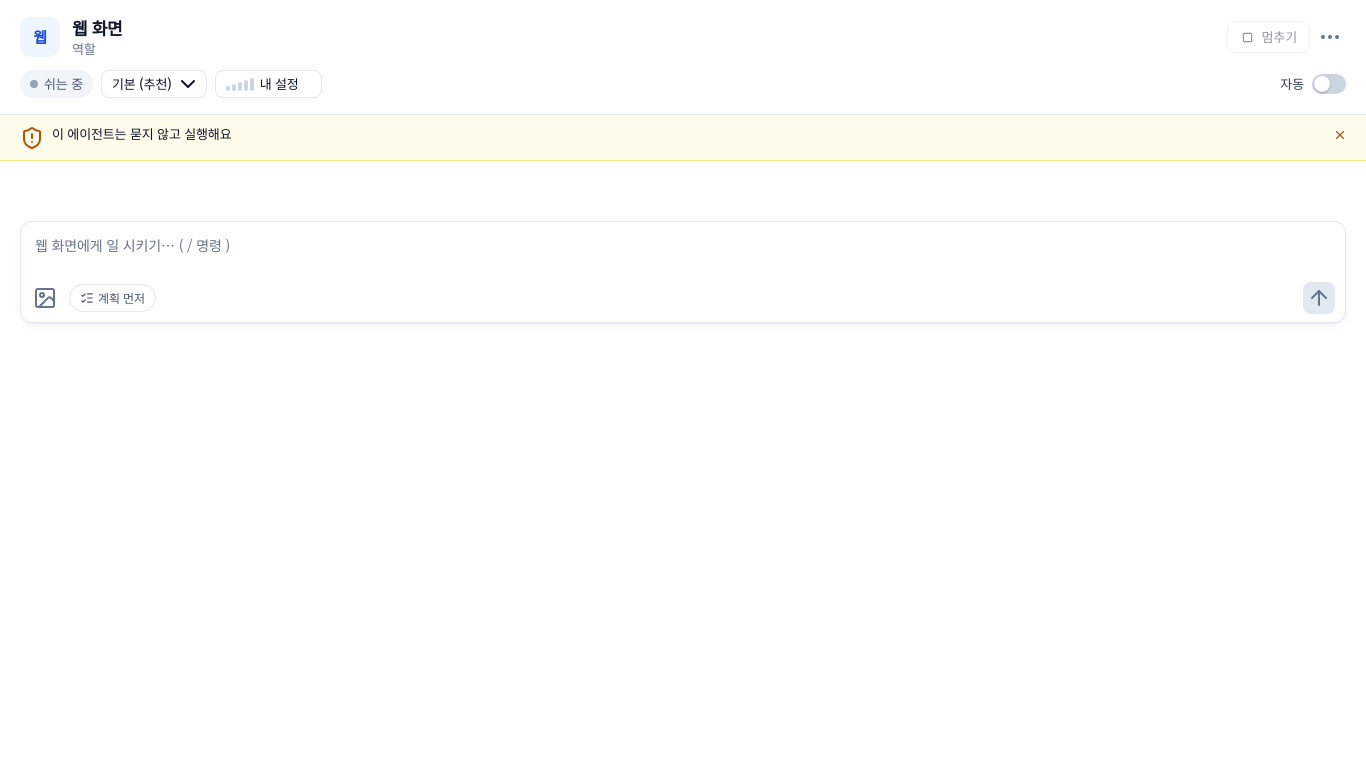
Scenario: AlwaysAllowDialog › 비었으면 안내 · 묻지 않음이 켜져 있으면 한 줄 더
The image size is (1366, 768).
Click the button named "메뉴".
click(1330, 37)  # box x1=1314 y1=21 x2=1346 y2=53
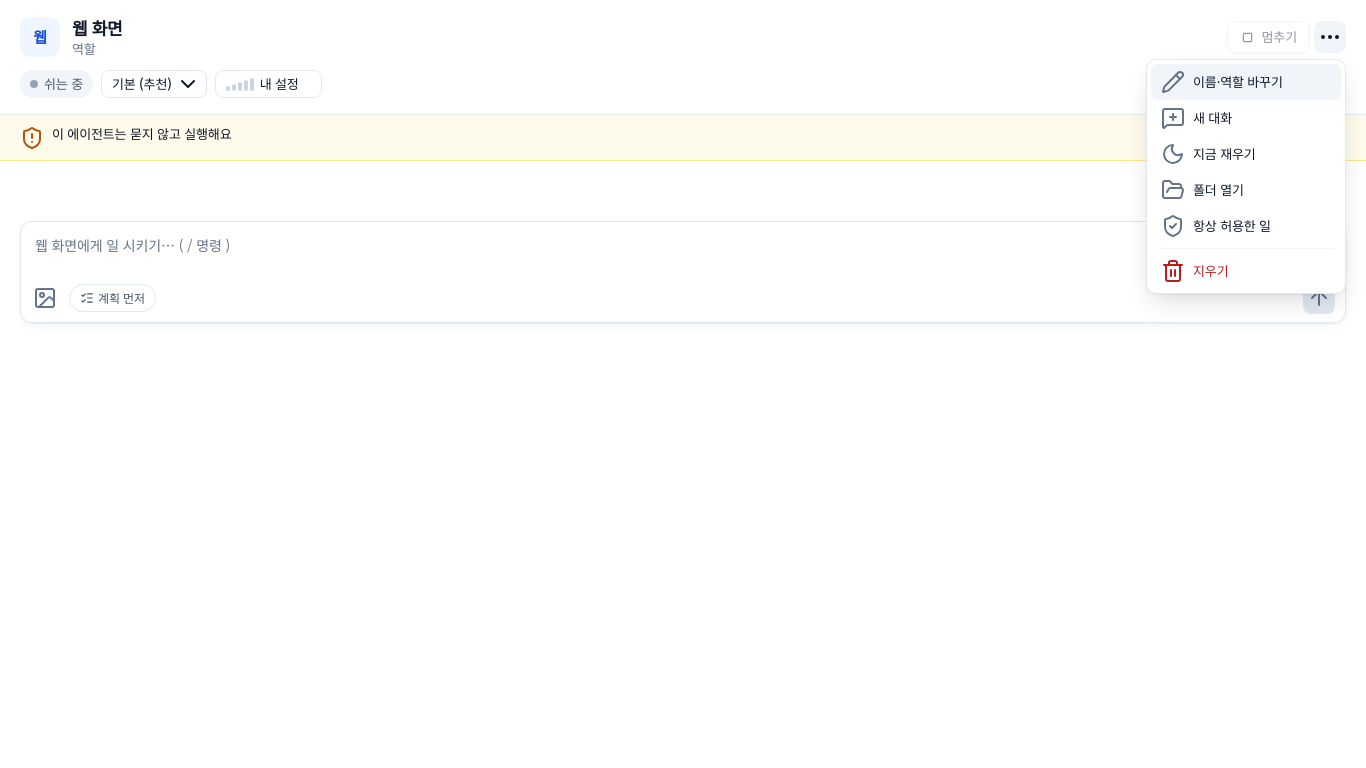
Click the menu item "항상 허용한 일".
click(1246, 226)  # box x1=1151 y1=208 x2=1341 y2=244
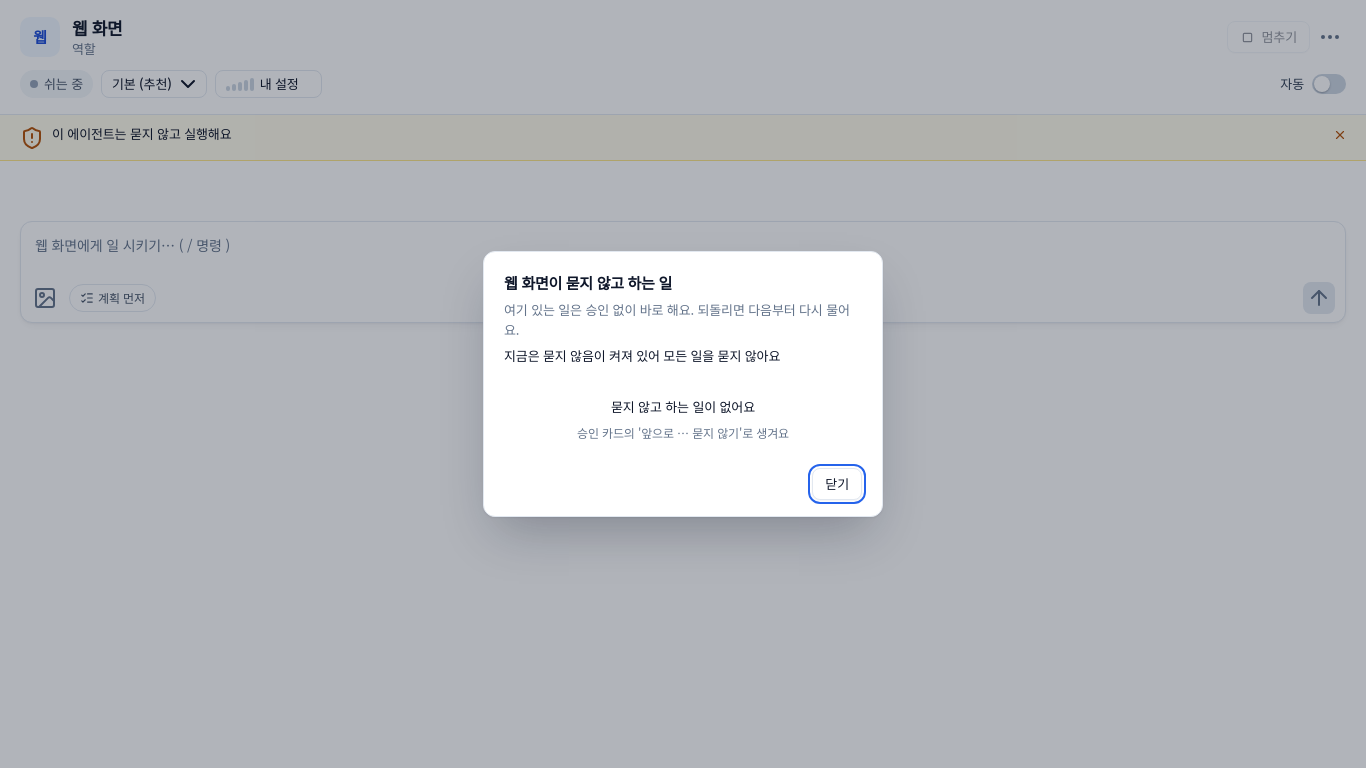
Expected: the dialog shows "묻지 않고 하는 일이 없어요", x1=611 y1=397 x2=755 y2=416
Expected: the dialog shows "승인 카드의 '앞으로 … 묻지 않기'로 생겨요", x1=577 y1=424 x2=789 y2=441
Expected: the dialog shows "지금은 묻지 않음이 켜져 있어 모든 일을 묻지 않아요", x1=504 y1=346 x2=780 y2=365
